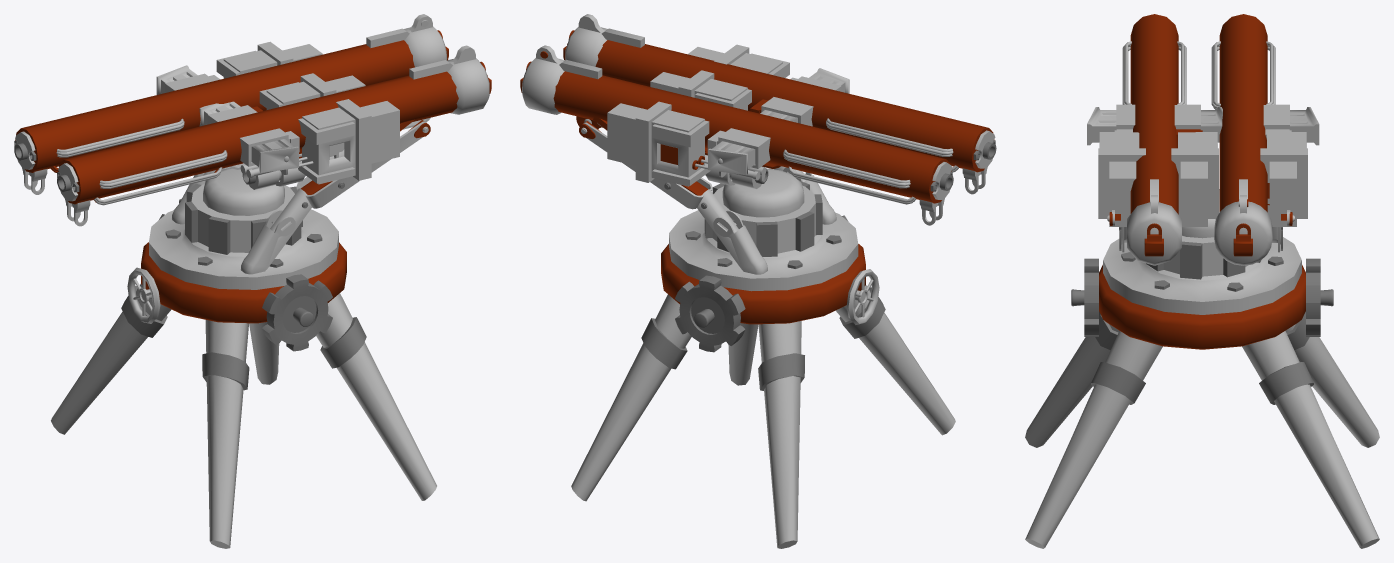
File: Blaster_Tower.fbx
The picture shows the model from 3 angles, left to right: view 1: azimuth 30°, elevation 25°; view 2: azimuth 150°, elevation 25°; view 3: azimuth 270°, elevation 25°; orthographic projection. The views are drawn at different scales.
Parts seen in each view (by area): view 1: Blaster_Gun, Blaster_Body, Blaster_Connection_Point; view 2: Blaster_Gun, Blaster_Body, Blaster_Connection_Point; view 3: Blaster_Body, Blaster_Gun, Blaster_Connection_Point.
Part boxes in pixels (x1,y1,x2,y2): Blaster_Gun: [14, 14, 491, 226]; Blaster_Body: [51, 199, 436, 548]; Blaster_Connection_Point: [172, 119, 430, 274]; Blaster_Gun: [520, 14, 996, 225]; Blaster_Body: [571, 210, 955, 548]; Blaster_Connection_Point: [579, 116, 836, 274]; Blaster_Body: [1025, 237, 1379, 548]; Blaster_Gun: [1087, 14, 1319, 265]; Blaster_Connection_Point: [1107, 189, 1294, 280].
Bounding box in the file's own units: 393 × 342 × 274.
